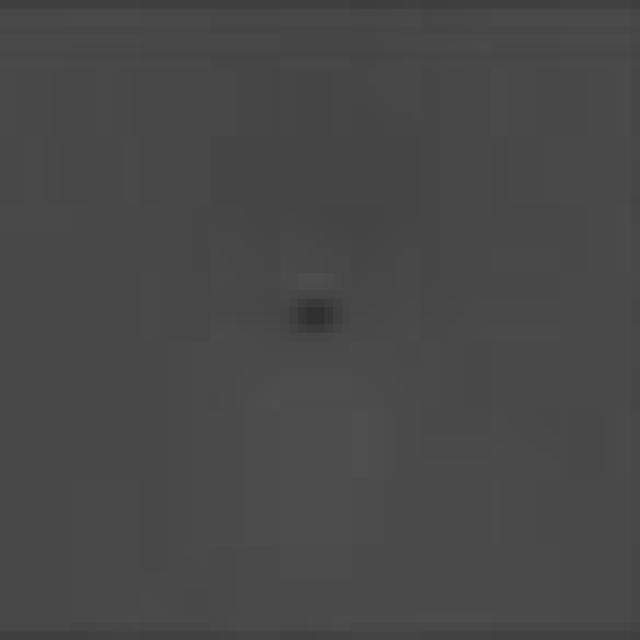Defect2: (245, 239, 408, 377)
